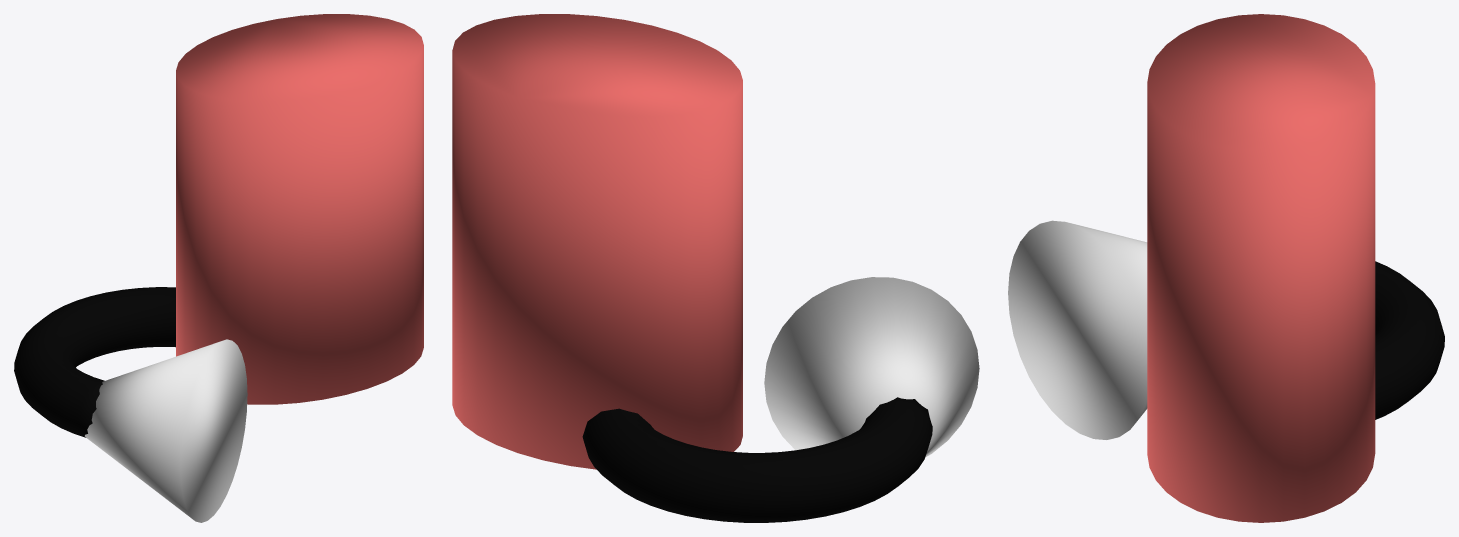
The model's file is Respirator.fbx.
3 renders of one model, left to right at view 1: azimuth 30°, elevation 25°; view 2: azimuth 150°, elevation 25°; view 3: azimuth 270°, elevation 25°, orthographic. The views are drawn at different scales.
Visible parts, largest first — view 1: Cylinder, Cone, Torus; view 2: Cylinder, Cone, Torus; view 3: Cylinder, Cone, Torus.
Boxes of the visible parts, <box> form: Cylinder: <box>176,14,423,404</box>; Cone: <box>85,339,247,522</box>; Torus: <box>14,287,175,437</box>; Cylinder: <box>452,14,742,469</box>; Cone: <box>764,277,979,457</box>; Torus: <box>582,397,932,522</box>; Cylinder: <box>1147,14,1375,522</box>; Cone: <box>1008,220,1147,439</box>; Torus: <box>1375,261,1444,419</box>.
Bounding box in the file's own units: 473 × 432 × 384.
